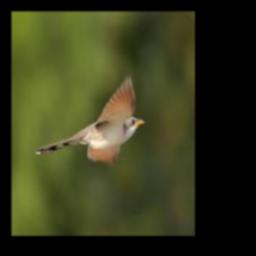Cuckoo: (35, 77, 145, 160)
